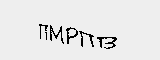В: (96, 33, 117, 54)
М: (49, 24, 65, 44)
П: (78, 29, 95, 50), (37, 21, 48, 43)
Р: (64, 26, 78, 46)
